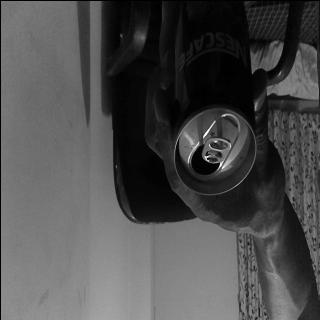alumunium_can: (169, 4, 254, 194)
